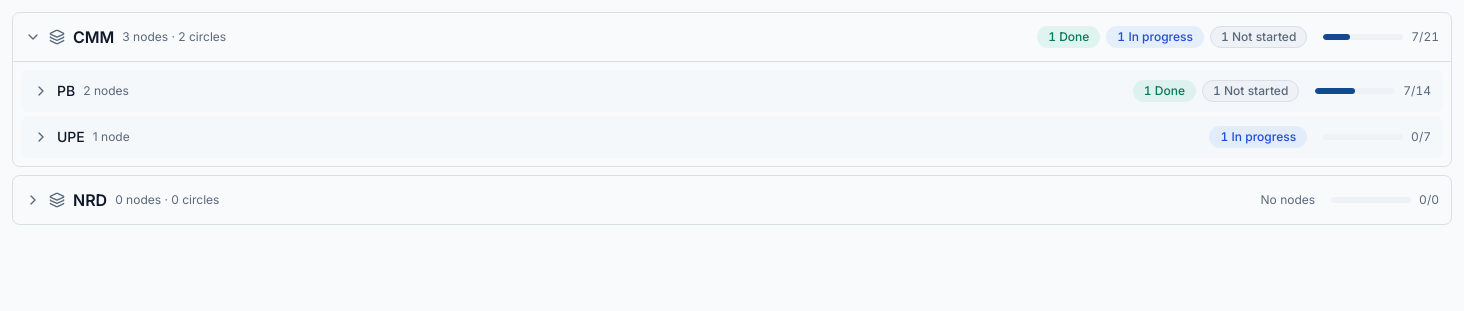
Test: NodeExplorer › offers a retry when loading a circle's nodes fails
The width and height of the screenshot is (1464, 311).
Click the text "PB" at x=66, y=91, box top-left (57, 81), bottom-right (75, 101)
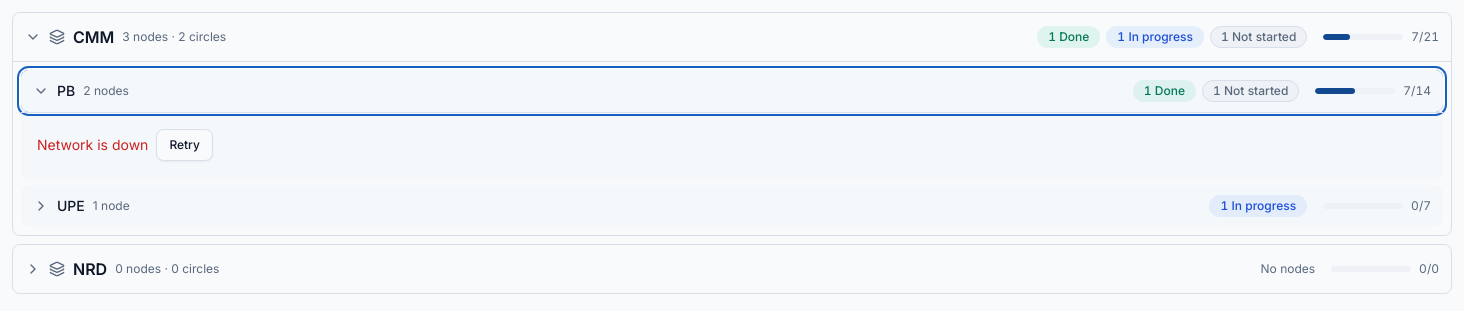
Expected: the text "Network is down" is shown, top-left (37, 135), bottom-right (148, 155)
Click the button "Retry" at x=185, y=145, box top-left (156, 129), bottom-right (213, 161)
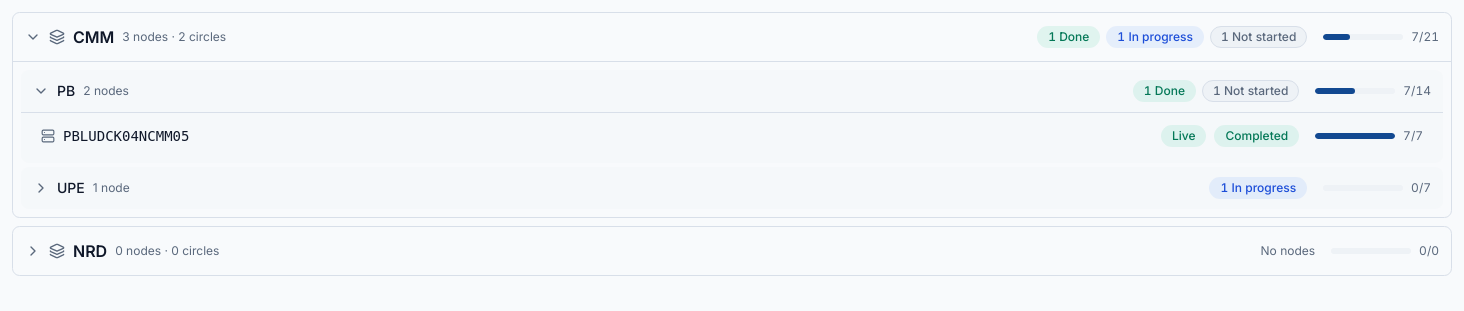
Expected: the text "PBLUDCK04NCMM05" is shown, top-left (63, 126), bottom-right (189, 146)
